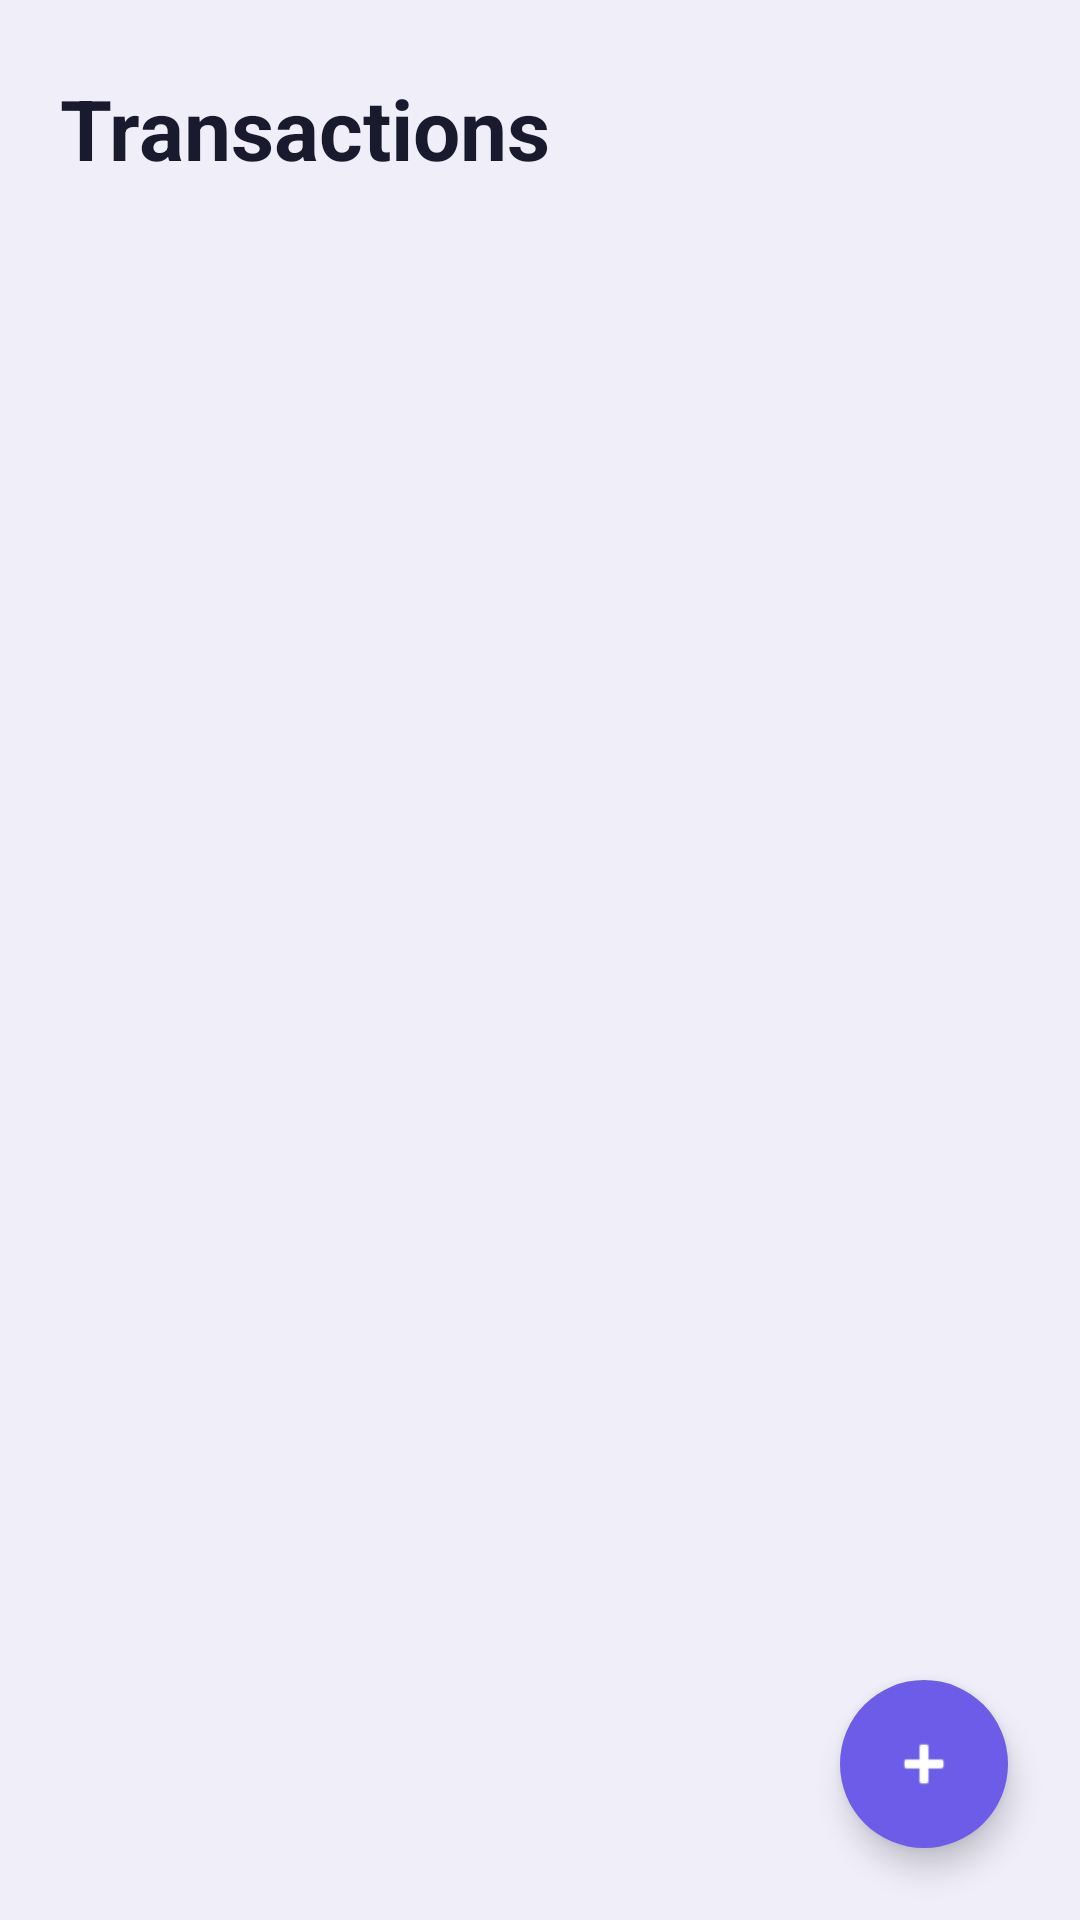

Named icons in this screenshot (1080x1920) and their centers, (x,y):
Add: (924,1764)
